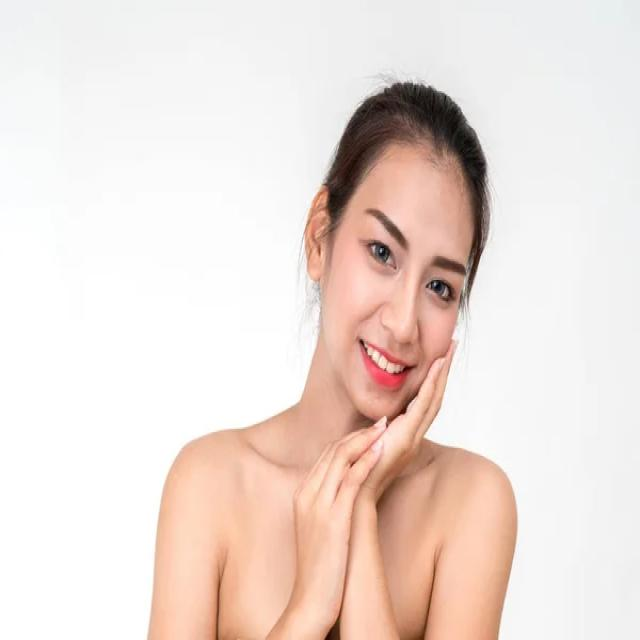Nonhelmet: (301, 81, 486, 428)
